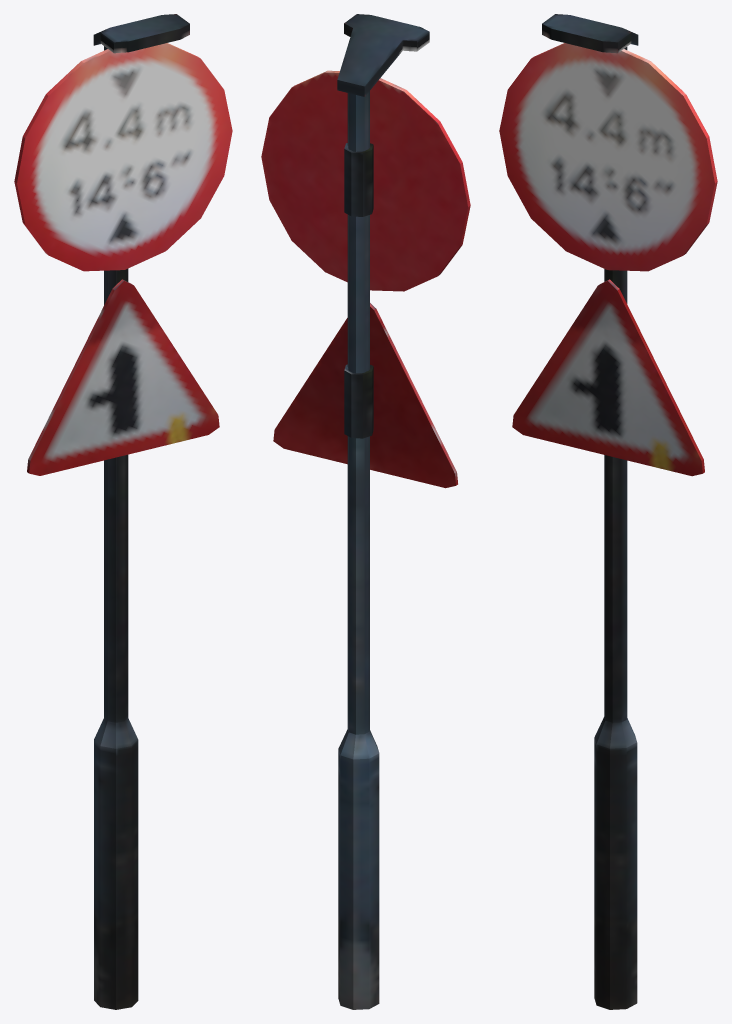
File: SM_SM_PRP_RoadSign_01.fbx
3 views of the same model, side by side, from view 1: azimuth 30°, elevation 25°; view 2: azimuth 150°, elevation 25°; view 3: azimuth 330°, elevation 25° (orthographic). The views are drawn at different scales.
Visible parts, largest first — view 1: SM_PRP_RoadSign_01; view 2: SM_PRP_RoadSign_01; view 3: SM_PRP_RoadSign_01.
Boxes of the visible parts, x1=… form: SM_PRP_RoadSign_01: x1=14, y1=14, x2=232, y2=1009; SM_PRP_RoadSign_01: x1=261, y1=14, x2=470, y2=1009; SM_PRP_RoadSign_01: x1=499, y1=14, x2=717, y2=1009.
Bounding box in the file's own units: 80.85 × 356 × 32.
